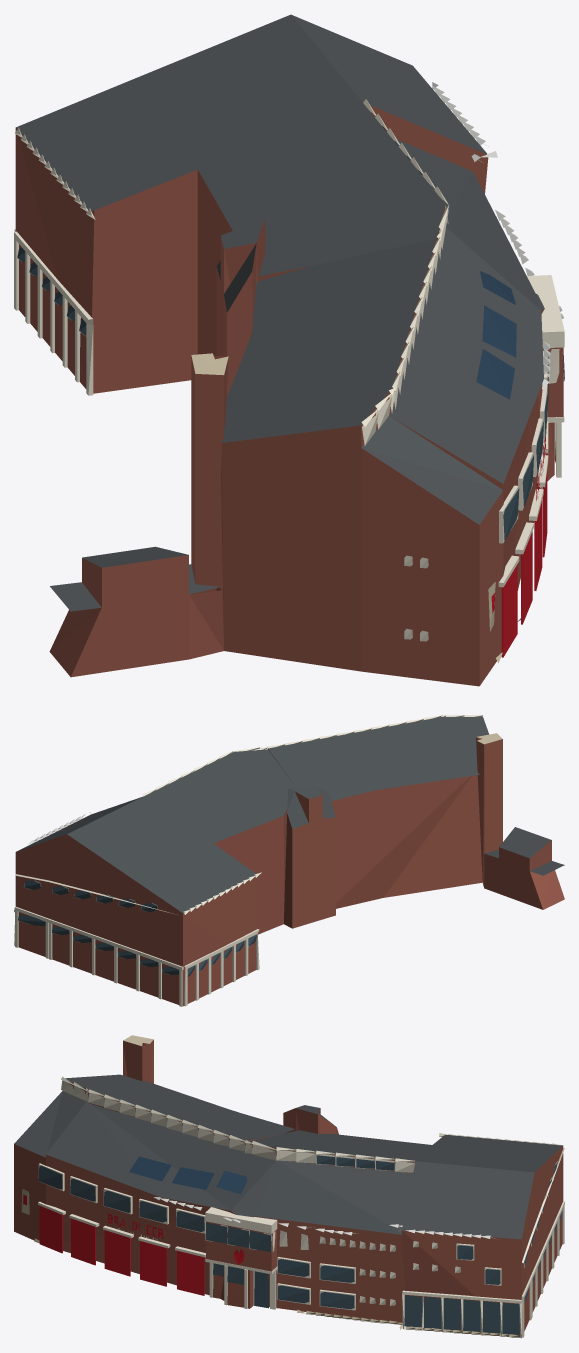
The model's file is fire-station-hendrik.lod1.glb.
3 renders of one model, top to bottom at view 1: azimuth 30°, elevation 25°; view 2: azimuth 150°, elevation 25°; view 3: azimuth 270°, elevation 25°, orthographic. The views are drawn at different scales.
Parts seen in each view (by area): view 1: fire-station-hendrik; view 2: fire-station-hendrik; view 3: fire-station-hendrik.
Part boxes in pixels (x1,y1,x2,y2): fire-station-hendrik: (14, 14, 564, 686); fire-station-hendrik: (14, 715, 564, 1006); fire-station-hendrik: (14, 1035, 564, 1338).
Size of the model in its own units: 46.09 by 17.34 by 57.72.
